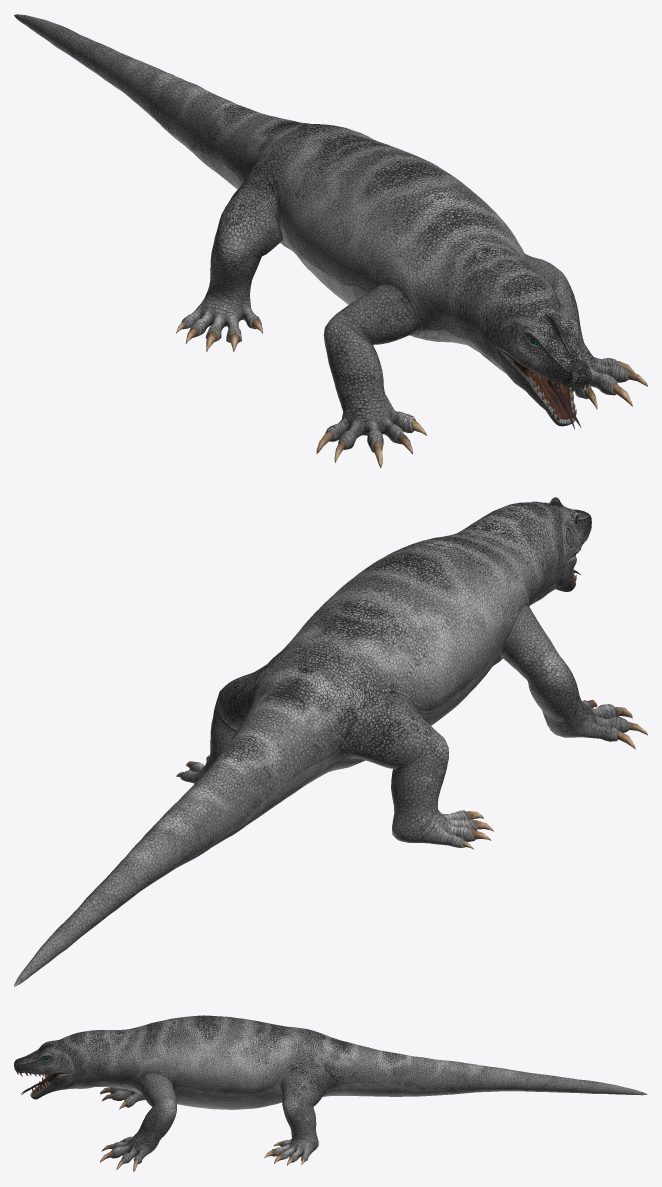
The model's file is megalania.obj.
3 renders of one model, top to bottom at view 1: azimuth 30°, elevation 25°; view 2: azimuth 150°, elevation 25°; view 3: azimuth 270°, elevation 25°, orthographic. The views are drawn at different scales.
Parts seen in each view (by area): view 1: obj1; view 2: obj1; view 3: obj1.
Boxes of the visible parts, bbox=[...] form: obj1: bbox=[14, 14, 647, 468]; obj1: bbox=[14, 497, 647, 986]; obj1: bbox=[14, 1015, 647, 1171].
Bounding box in the file's own units: 3.01 × 1.79 × 9.31.
Materials: 1 (1 with a texture image).
